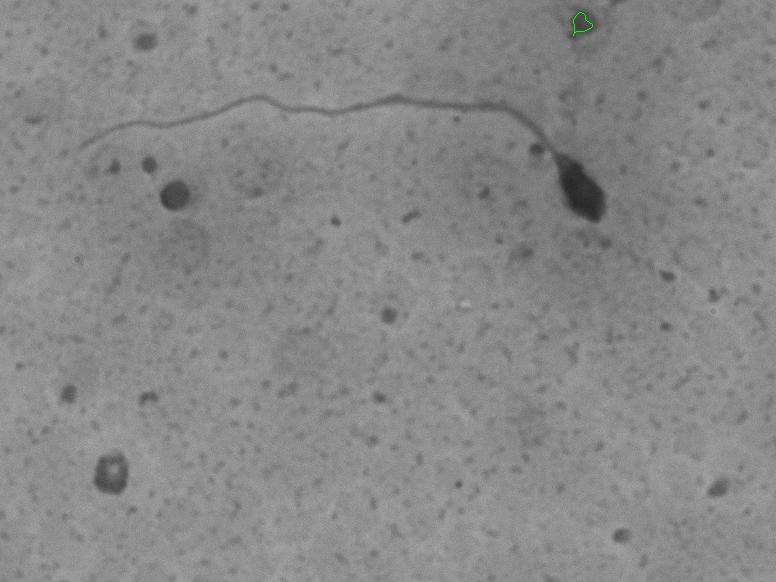Abnormal: (35, 60, 632, 257)
